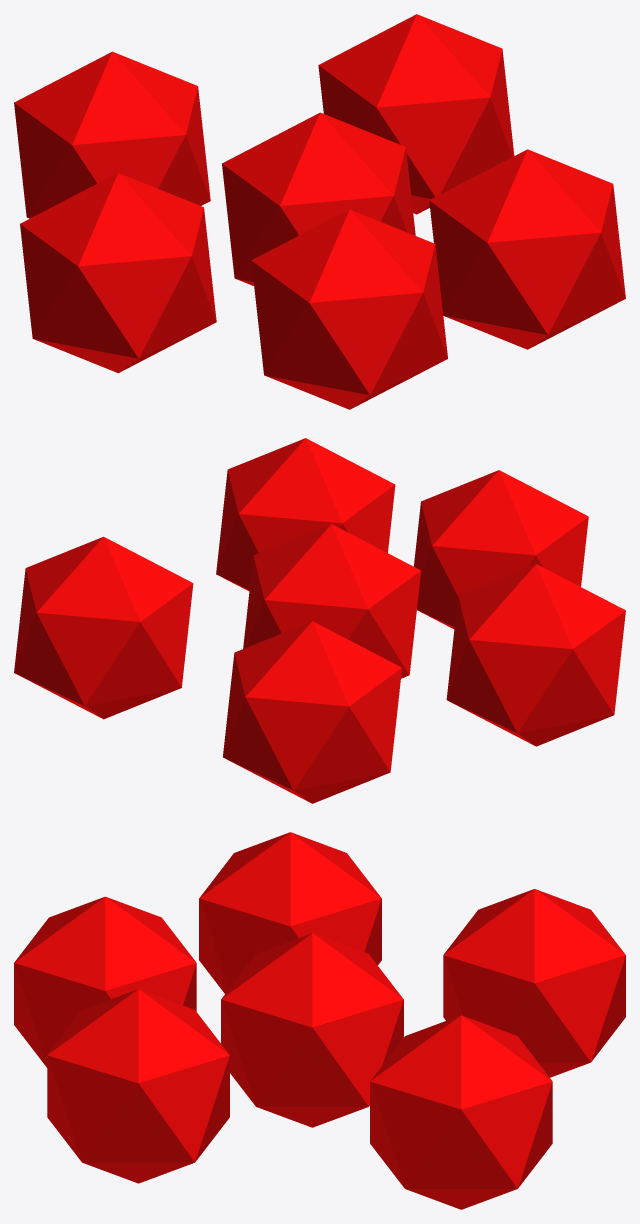
Rendered from Redberry.fbx.
3 renders of one model, top to bottom at view 1: azimuth 30°, elevation 25°; view 2: azimuth 150°, elevation 25°; view 3: azimuth 270°, elevation 25°, orthographic. The views are drawn at different scales.
Parts seen in each view (by area): view 1: Icosphere.005; view 2: Icosphere.005; view 3: Icosphere.005.
Part boxes in pixels (bbox=[...]): Icosphere.005: bbox=[14, 14, 625, 409]; Icosphere.005: bbox=[14, 438, 625, 803]; Icosphere.005: bbox=[14, 832, 625, 1209].
Size of the model in its own units: 291 by 99.79 by 284.
